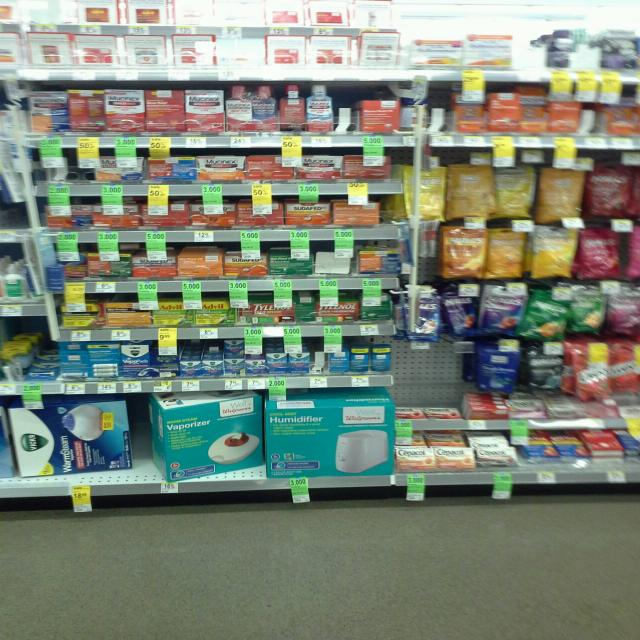empty: (215, 21, 268, 69), (331, 86, 356, 137)
